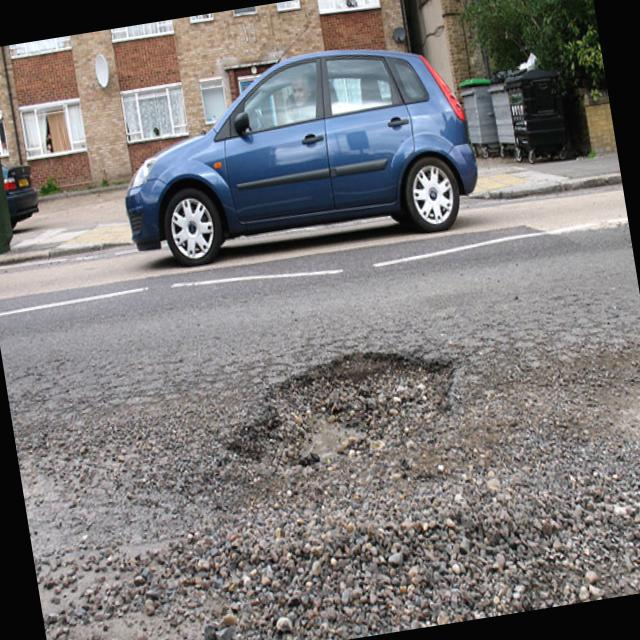bad-road: (212, 334, 470, 487)
